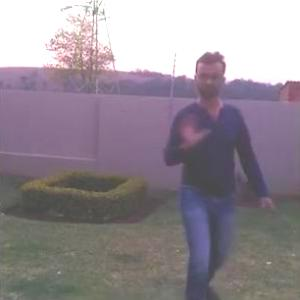follow_hand: (177, 112, 210, 148)
